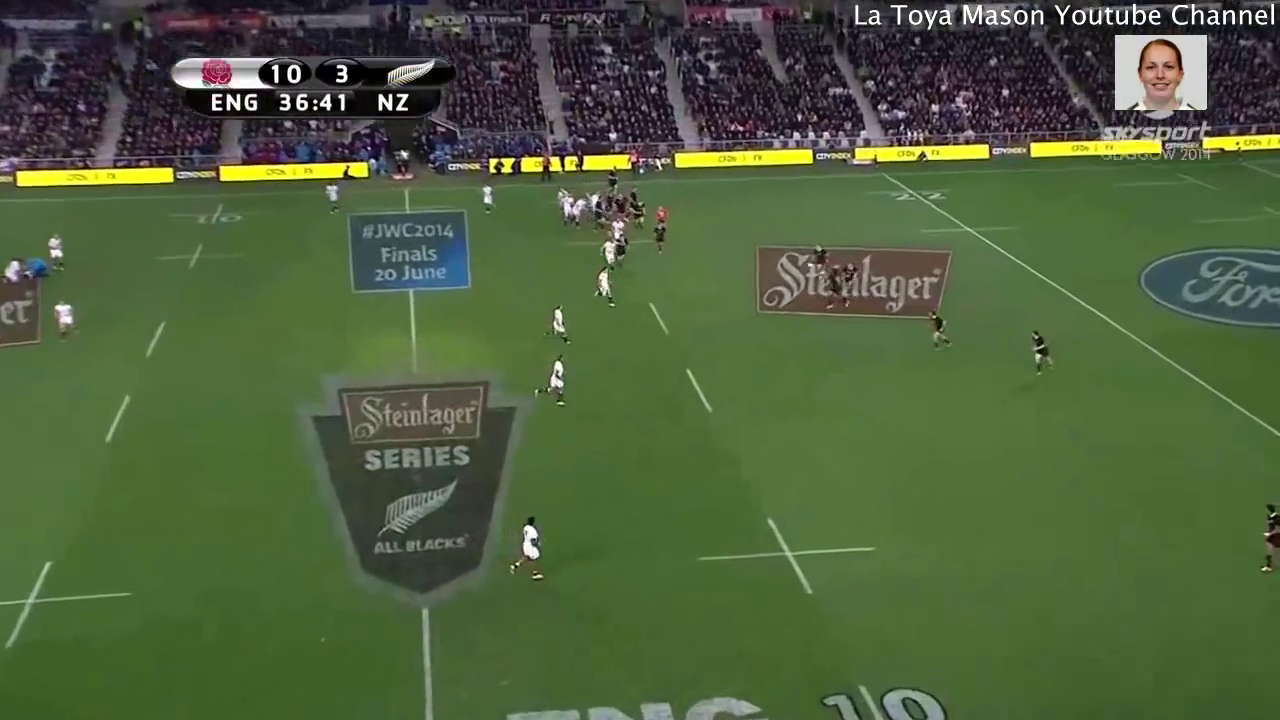10_metre: (694, 513, 881, 601), (1, 555, 140, 658), (150, 237, 247, 274), (161, 200, 271, 230)
player: (507, 513, 545, 583), (532, 348, 573, 408), (1022, 327, 1057, 380), (921, 304, 956, 356), (1257, 500, 1280, 578), (540, 300, 577, 346), (50, 297, 83, 345), (819, 266, 854, 311), (590, 263, 620, 311), (43, 230, 70, 278), (21, 250, 58, 281), (810, 243, 832, 285), (320, 178, 344, 216), (477, 182, 502, 217), (1, 252, 26, 285), (839, 261, 862, 296), (590, 193, 606, 232), (600, 237, 620, 268), (631, 201, 647, 234), (611, 234, 629, 261), (653, 223, 668, 255), (606, 164, 622, 193), (573, 197, 587, 230), (608, 217, 628, 239), (611, 191, 626, 218), (583, 189, 600, 212), (601, 191, 617, 215), (562, 193, 573, 226), (654, 205, 671, 223), (627, 183, 639, 207), (553, 183, 566, 203)
